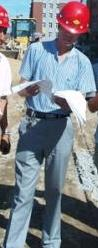hard-hat: (0, 2, 18, 27)
